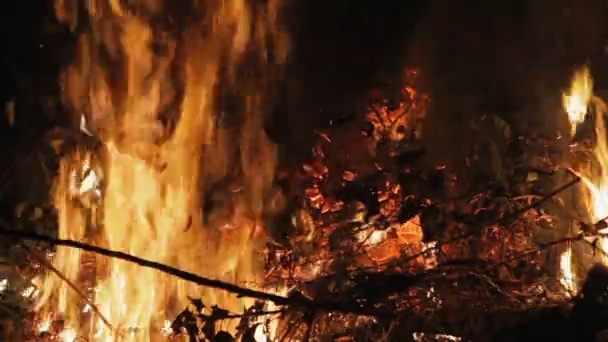fire: (28, 53, 231, 342), (590, 169, 608, 262), (563, 67, 591, 122), (558, 250, 574, 292)
